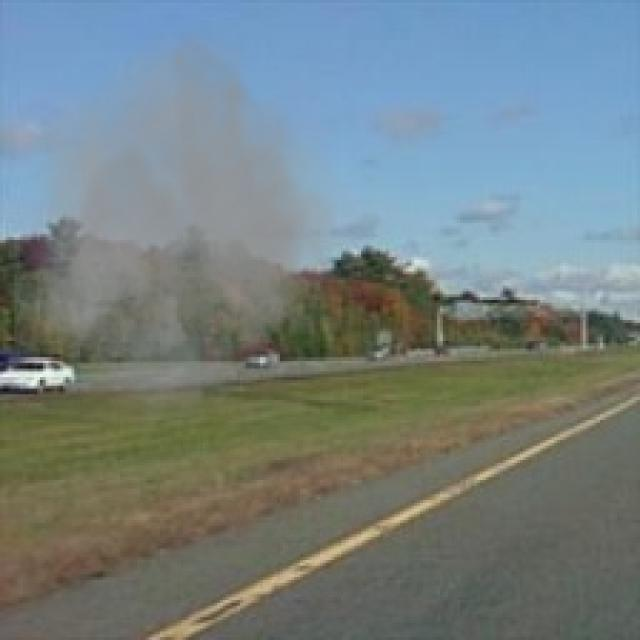Smoke: (14, 14, 377, 440)
